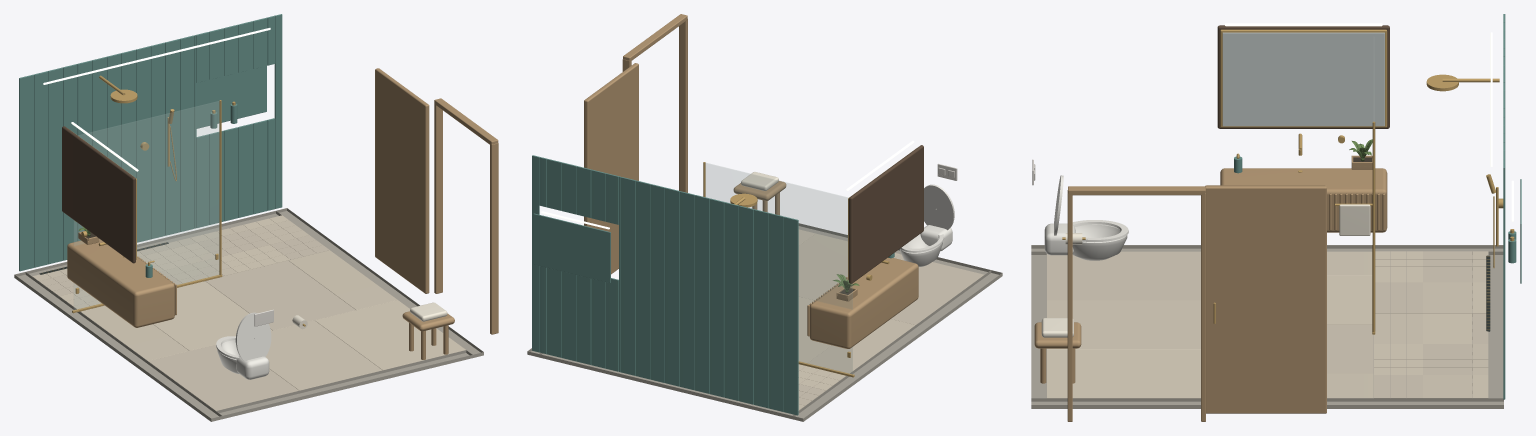
The model's file is detail-bath-bedroom.glb.
3 renders of one model, left to right at view 1: azimuth 30°, elevation 25°; view 2: azimuth 150°, elevation 25°; view 3: azimuth 270°, elevation 25°, orthographic. The views are drawn at different scales.
Parts seen in each view (by area): view 1: bath-bedroom__bathroom celadon ceramic, bath-bedroom__pale oak, bath-bedroom__bathroom clear shower glass, bath-bedroom__bathroom honed travertine oat, bath-bedroom__bathroom honed travertine sand, bath-bedroom__bathroom honed travertine ivory, bath-bedroom__bathroom warm mineral grout, bath-bedroom__honey ash, bath-bedroom__bathroom porcelain glaze, bath-bedroom__brushed brass, bath-bedroom__bathroom warm diffuser, bath-bedroom__linen; view 2: bath-bedroom__bathroom celadon ceramic, bath-bedroom__pale oak, bath-bedroom__bathroom clear shower glass, bath-bedroom__honey ash, bath-bedroom__bathroom warm mineral grout, bath-bedroom__bathroom honed travertine sand, bath-bedroom__bathroom honed travertine oat, bath-bedroom__bathroom porcelain glaze, bath-bedroom__bathroom honed travertine ivory, bath-bedroom__brushed brass, bath-bedroom__linen, bath-bedroom__bathroom warm diffuser; view 3: bath-bedroom__pale oak, bath-bedroom__bathroom honed travertine oat, bath-bedroom__bathroom satin mirror, bath-bedroom__bathroom honed travertine ivory, bath-bedroom__bathroom honed travertine sand, bath-bedroom__bathroom warm mineral grout, bath-bedroom__brushed brass, bath-bedroom__bathroom porcelain glaze, bath-bedroom__bathroom celadon ceramic, bath-bedroom__linen, bath-bedroom__honey ash, bath-bedroom__bathroom warm diffuser.
Part boxes in pixels (bbox=[...]): bath-bedroom__bathroom celadon ceramic: bbox=[19, 14, 282, 277]; bath-bedroom__pale oak: bbox=[67, 68, 498, 359]; bath-bedroom__bathroom clear shower glass: bbox=[74, 101, 219, 309]; bath-bedroom__bathroom honed travertine oat: bbox=[39, 230, 355, 410]; bath-bedroom__bathroom honed travertine sand: bbox=[32, 220, 397, 390]; bath-bedroom__bathroom honed travertine ivory: bbox=[59, 215, 465, 370]; bath-bedroom__bathroom warm mineral grout: bbox=[14, 208, 483, 421]; bath-bedroom__honey ash: bbox=[62, 126, 135, 263]; bath-bedroom__bathroom porcelain glaze: bbox=[216, 312, 271, 379]; bath-bedroom__brushed brass: bbox=[42, 75, 305, 326]; bath-bedroom__bathroom warm diffuser: bbox=[43, 28, 270, 171]; bath-bedroom__linen: bbox=[292, 302, 447, 329]; bath-bedroom__bathroom celadon ceramic: bbox=[532, 155, 894, 415]; bath-bedroom__pale oak: bbox=[584, 14, 918, 348]; bath-bedroom__bathroom clear shower glass: bbox=[705, 163, 852, 374]; bath-bedroom__honey ash: bbox=[849, 145, 923, 283]; bath-bedroom__bathroom warm mineral grout: bbox=[527, 223, 1002, 421]; bath-bedroom__bathroom honed travertine sand: bbox=[798, 233, 915, 410]; bath-bedroom__bathroom honed travertine oat: bbox=[798, 254, 983, 405]; bath-bedroom__bathroom porcelain glaze: bbox=[900, 184, 954, 266]; bath-bedroom__bathroom honed travertine ivory: bbox=[798, 229, 846, 390]; bath-bedroom__brushed brass: bbox=[703, 152, 910, 377]; bath-bedroom__linen: bbox=[741, 172, 778, 190]; bath-bedroom__bathroom warm diffuser: bbox=[541, 140, 914, 229]; bath-bedroom__pale oak: bbox=[1034, 168, 1387, 421]; bath-bedroom__bathroom honed travertine oat: bbox=[1047, 251, 1488, 398]; bath-bedroom__bathroom satin mirror: bbox=[1222, 32, 1384, 126]; bath-bedroom__bathroom honed travertine ivory: bbox=[1047, 251, 1488, 398]; bath-bedroom__bathroom honed travertine sand: bbox=[1047, 251, 1488, 398]; bath-bedroom__bathroom warm mineral grout: bbox=[1031, 245, 1503, 408]; bath-bedroom__brushed brass: bbox=[1062, 29, 1514, 334]; bath-bedroom__bathroom porcelain glaze: bbox=[1044, 175, 1128, 260]; bath-bedroom__bathroom celadon ceramic: bbox=[1234, 14, 1521, 399]; bath-bedroom__linen: bbox=[1041, 204, 1370, 337]; bath-bedroom__honey ash: bbox=[1217, 25, 1389, 128]; bath-bedroom__bathroom warm diffuser: bbox=[1224, 23, 1513, 221].
Size of the model in its own units: 3.78 by 2.36 by 4.41.
